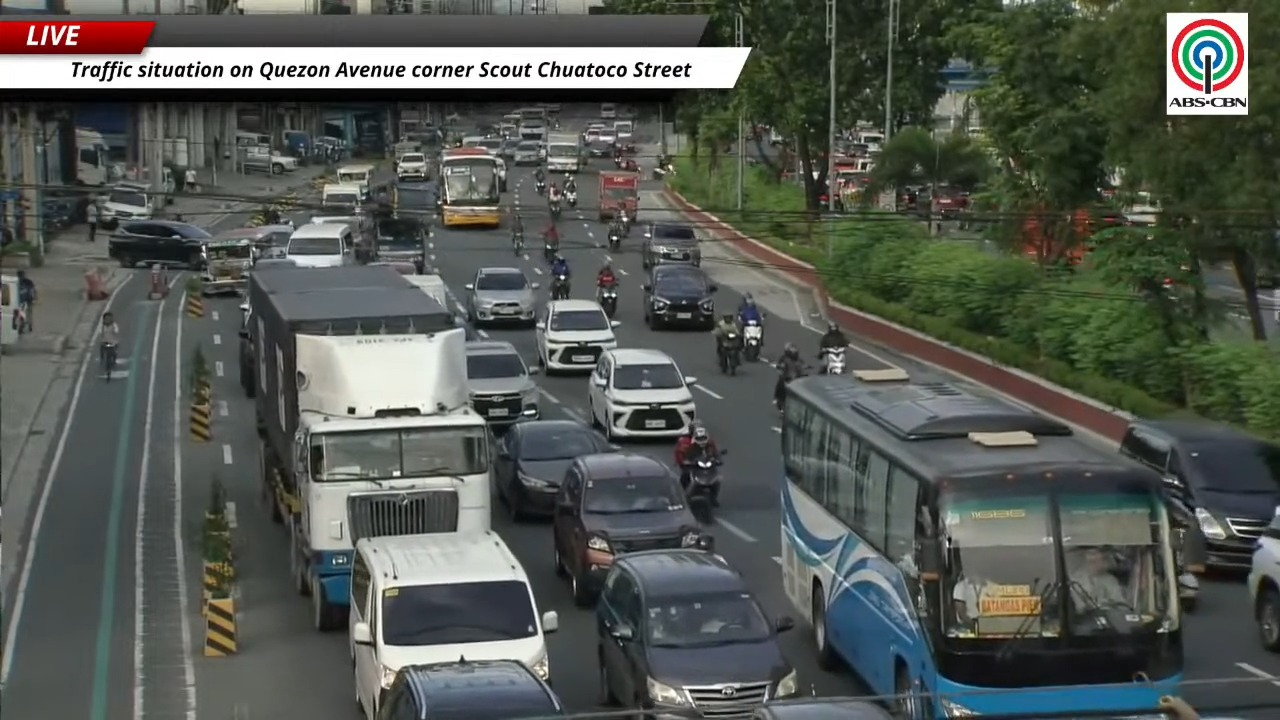bus: (780, 371, 1183, 719), (439, 147, 500, 227), (515, 107, 547, 123)
car: (348, 531, 557, 717), (595, 549, 799, 717), (1120, 421, 1279, 569), (552, 452, 702, 606), (494, 419, 617, 519), (374, 657, 565, 719), (588, 348, 696, 441), (465, 340, 539, 427), (535, 299, 620, 372), (108, 220, 211, 268), (642, 265, 717, 329), (1247, 509, 1279, 651), (464, 267, 538, 324), (215, 224, 294, 266), (749, 697, 895, 719), (375, 217, 428, 272), (641, 222, 701, 269), (238, 301, 257, 398), (397, 152, 428, 180), (512, 140, 540, 165), (586, 135, 611, 158), (501, 137, 520, 162), (598, 126, 616, 146), (600, 103, 617, 119), (538, 142, 546, 161)
motorcycle: (682, 449, 725, 524), (1173, 523, 1206, 612), (775, 365, 810, 411), (718, 333, 742, 375), (743, 319, 762, 362), (597, 283, 618, 319), (821, 347, 846, 374), (551, 274, 569, 299), (544, 244, 558, 263), (621, 210, 631, 236), (512, 232, 523, 255), (609, 229, 620, 250), (565, 191, 578, 208), (621, 158, 638, 171), (549, 201, 560, 219), (535, 180, 546, 196), (615, 155, 623, 168)
truck: (248, 267, 490, 631), (75, 127, 113, 186), (598, 171, 639, 223), (546, 133, 582, 173)
